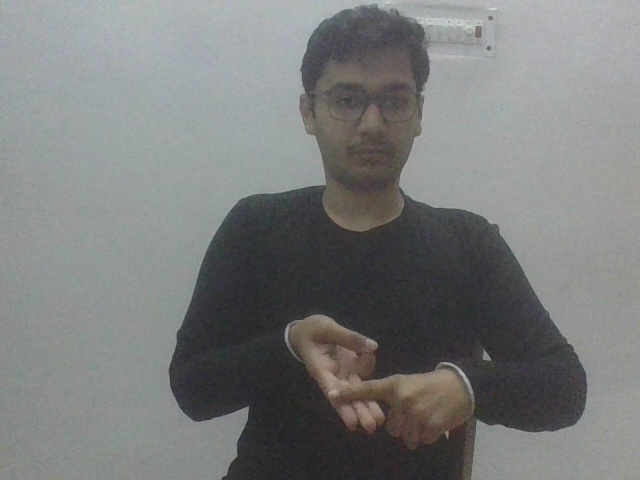E: (281, 312, 479, 454)
